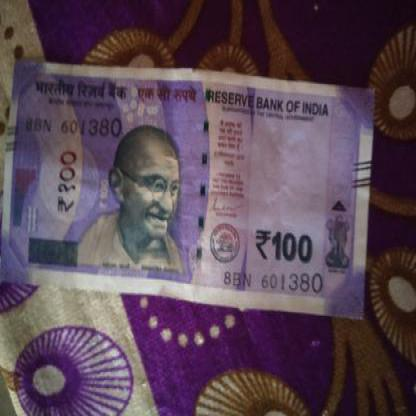New100Front: (0, 57, 369, 311)
